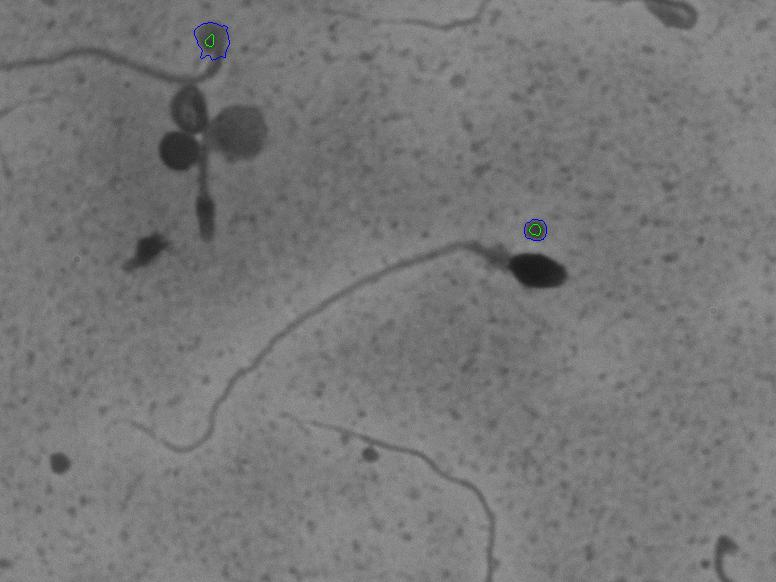Abnormal: (93, 223, 575, 472)
